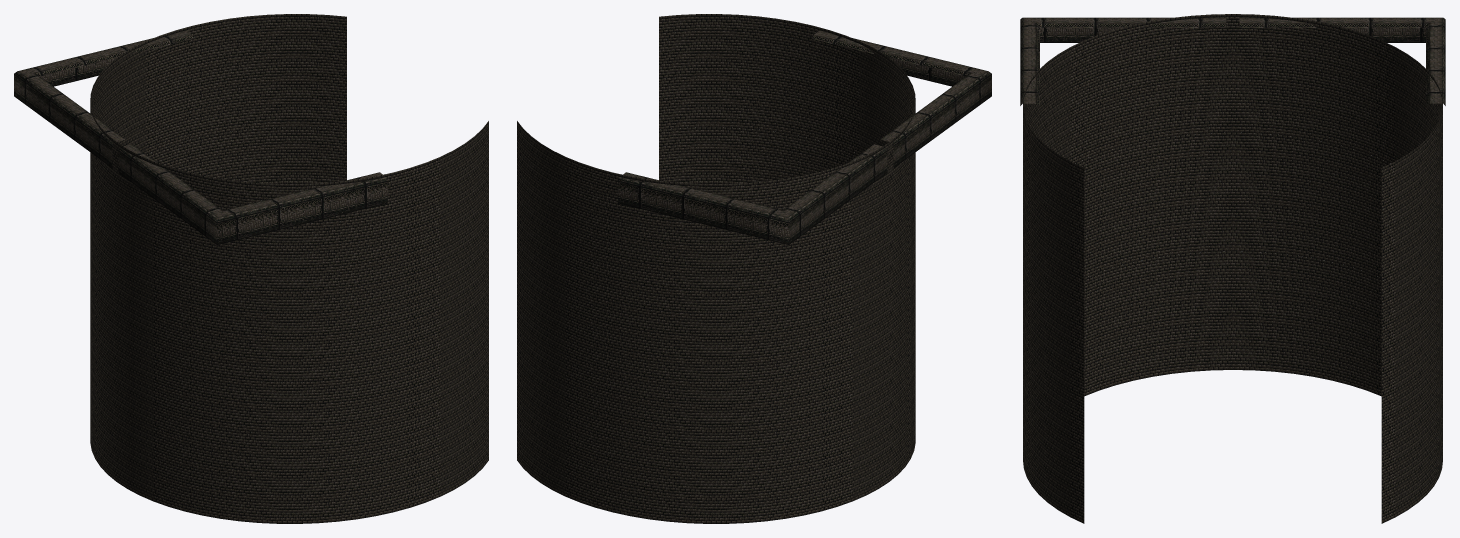
File: EnvMdrMD_Atl_A_Tower.FBX
The picture shows the model from 3 angles, left to right: view 1: azimuth 30°, elevation 25°; view 2: azimuth 150°, elevation 25°; view 3: azimuth 270°, elevation 25°; orthographic projection. The views are drawn at different scales.
Parts seen in each view (by area): view 1: EnvMdrMD_Atl_A_Tower; view 2: EnvMdrMD_Atl_A_Tower; view 3: EnvMdrMD_Atl_A_Tower.
Boxes of the visible parts, left/top/right/bottom form: EnvMdrMD_Atl_A_Tower: left=14, top=14, right=488, bottom=523; EnvMdrMD_Atl_A_Tower: left=517, top=14, right=991, bottom=523; EnvMdrMD_Atl_A_Tower: left=1020, top=14, right=1445, bottom=523.
Bounding box in the file's own units: 2794 × 3000 × 3250.
